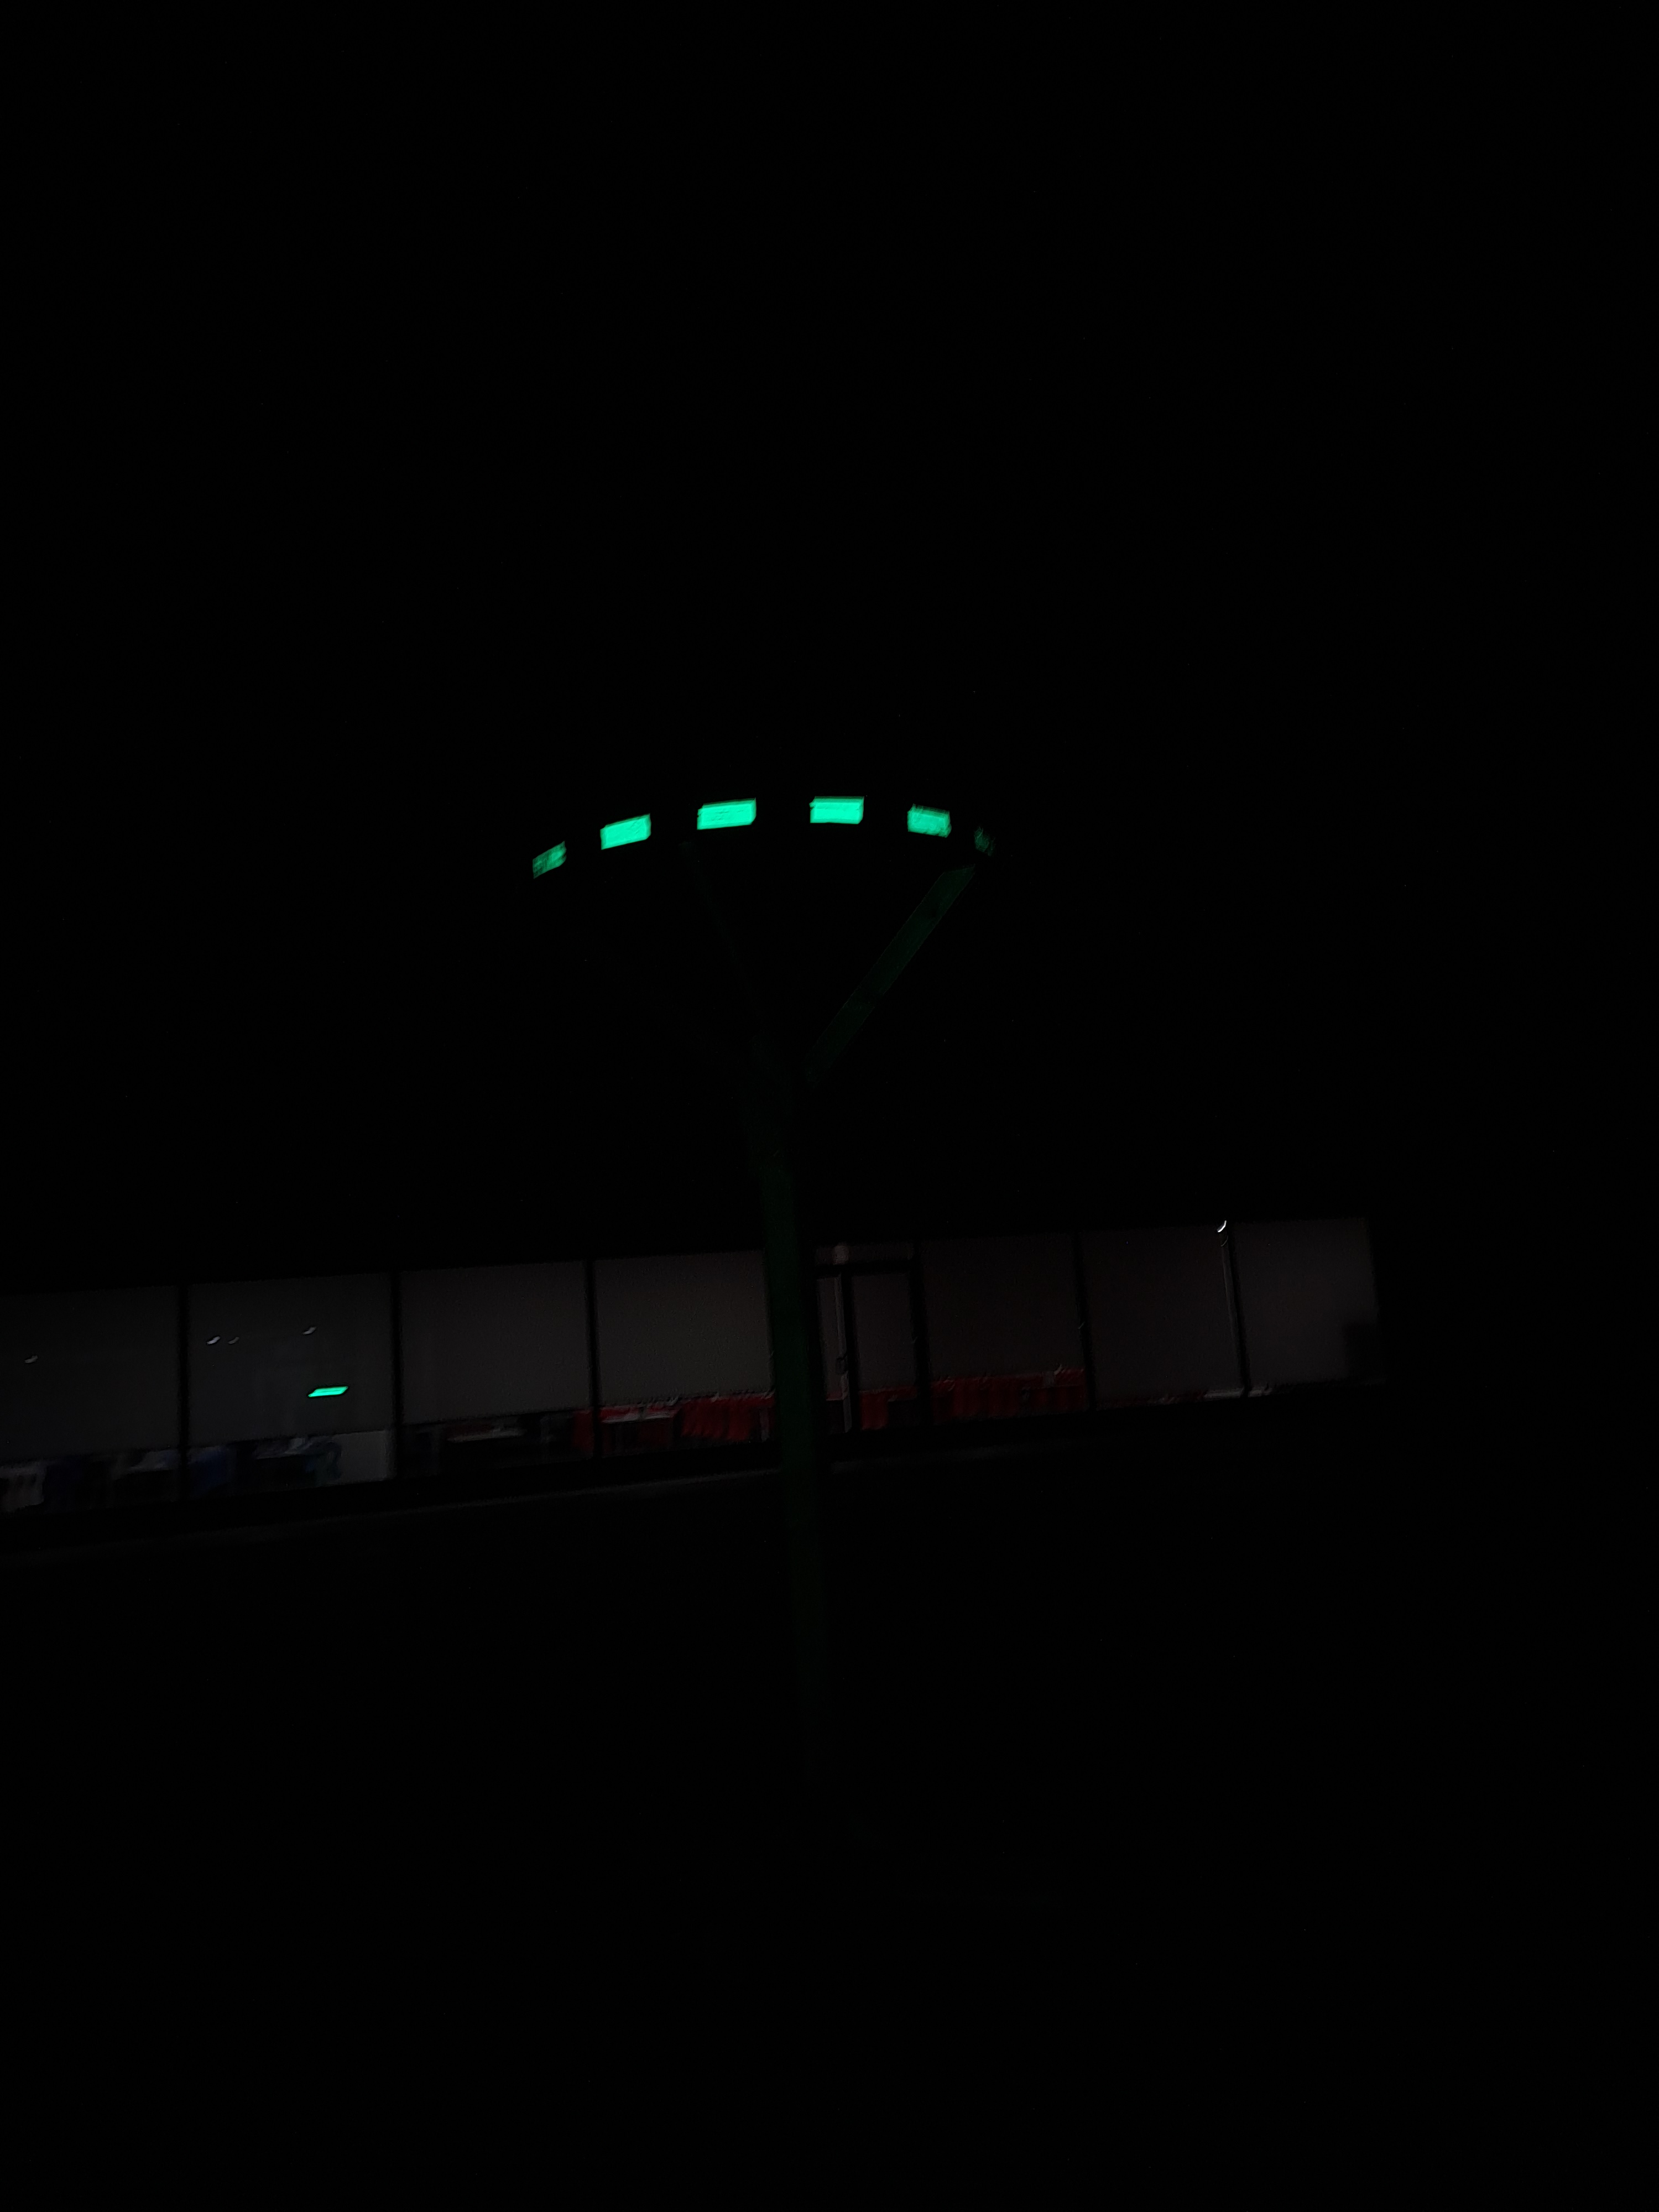hoop: (514, 794, 957, 883)
